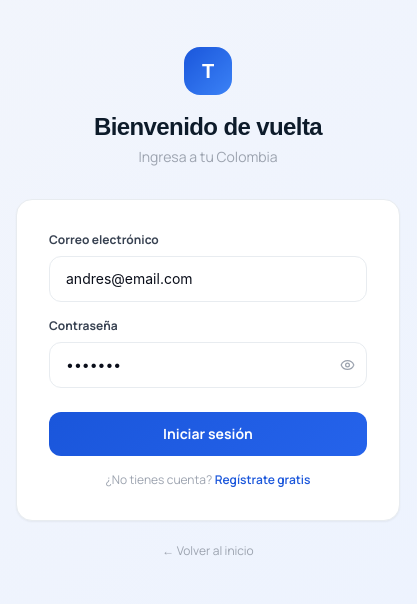
Test: Login page › shows error when submitting empty fields
Clear the field with placeholder "tu@email.com" at point(208, 279), box x1=49 y1=256 x2=367 y2=302
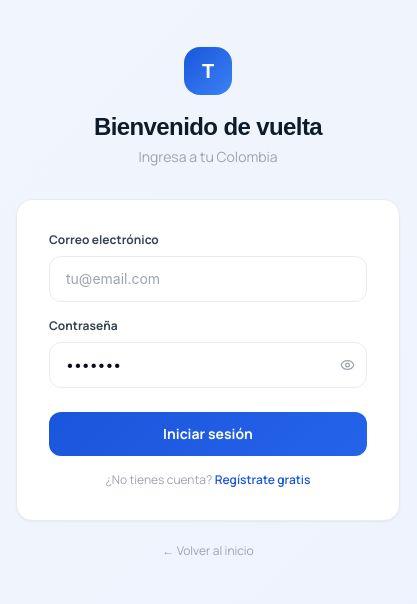
Click the button "Iniciar sesión" at point(208, 434), box x1=49 y1=412 x2=367 y2=456
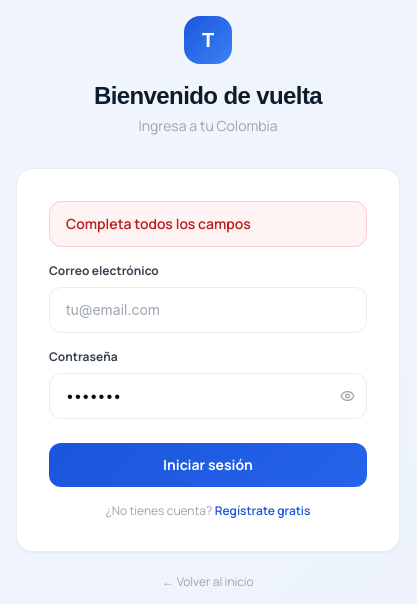
Result: the text "Completa todos los campos" is shown at x1=49 y1=201 x2=367 y2=247
